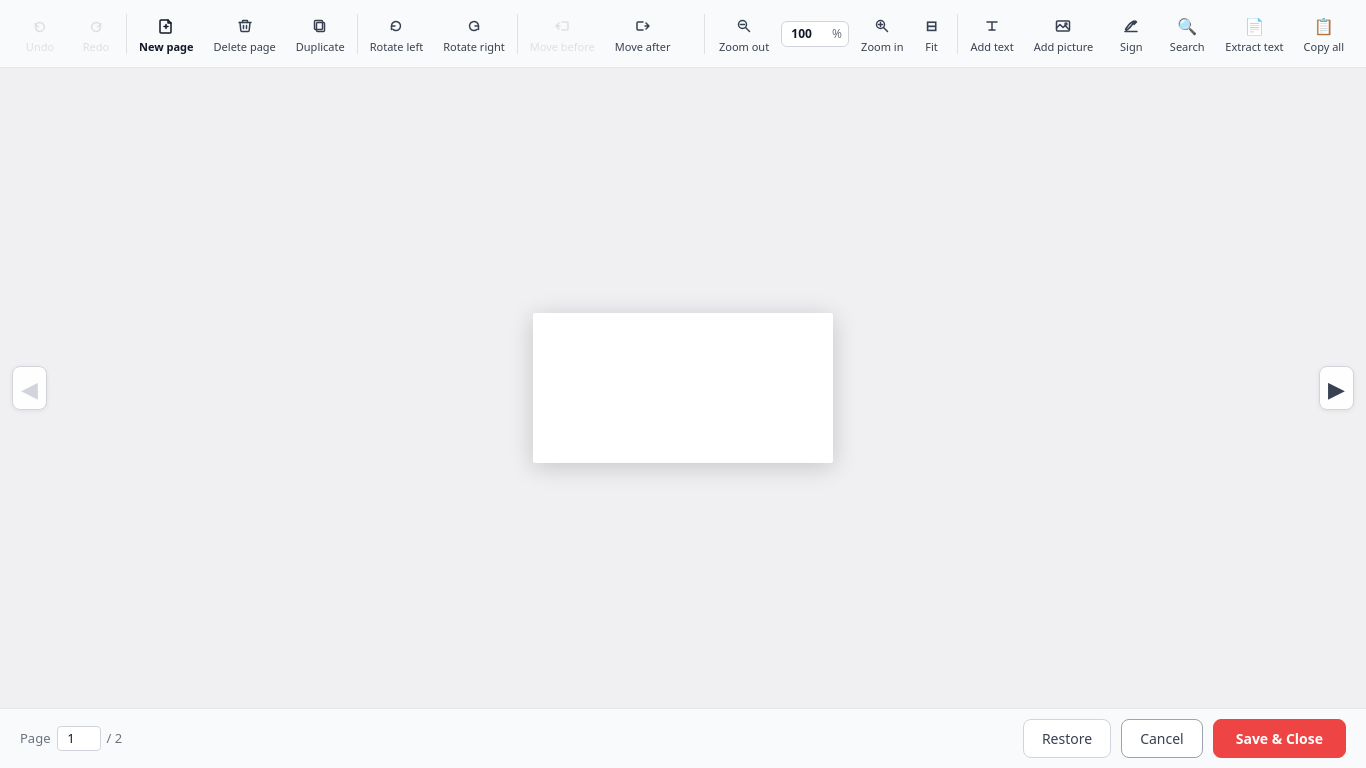
Scenario: PageEditModal — text layer integration › opening search shows the search bar
This screenshot has width=1366, height=768.
Click the button labelled "🔍 Search" at (1187, 34), box [1159,8,1215,59]
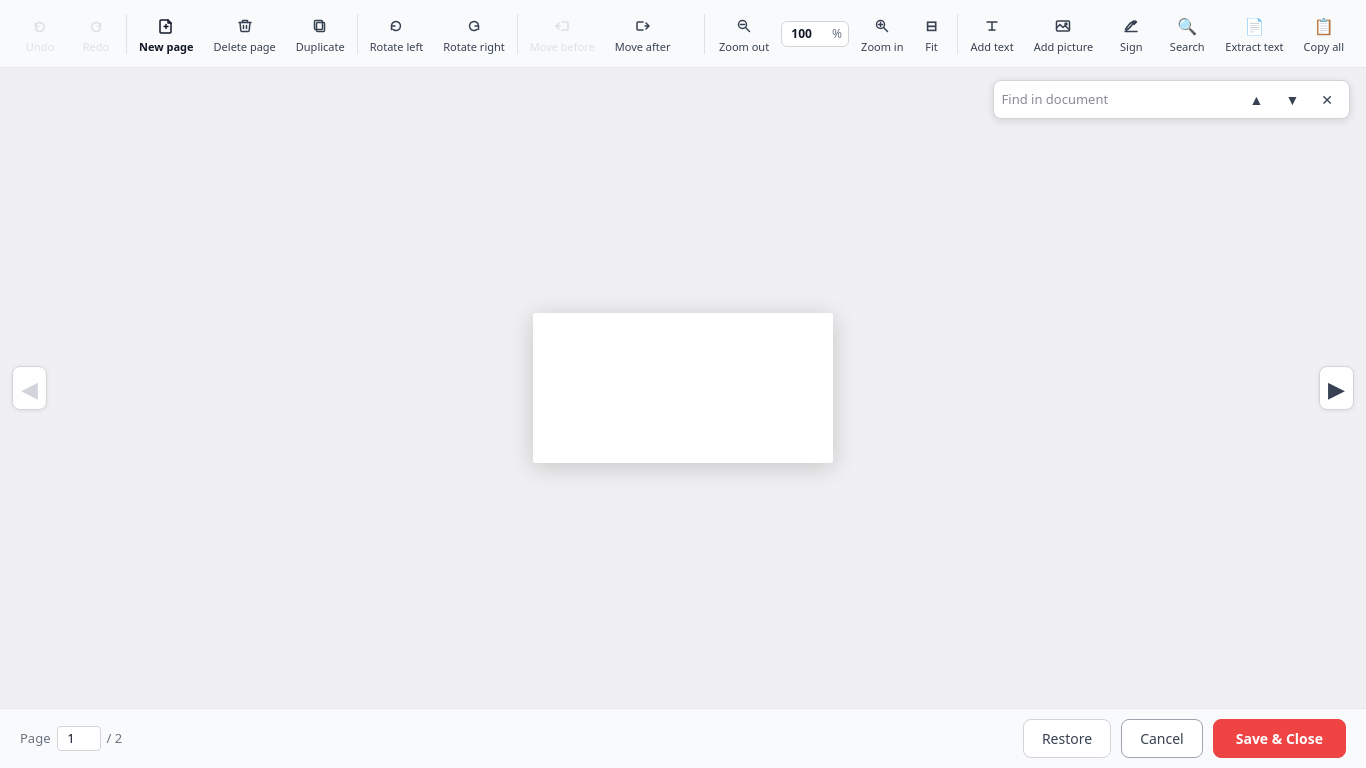
Result: the element with test id "search-bar" is shown at [992,80,1350,119]
